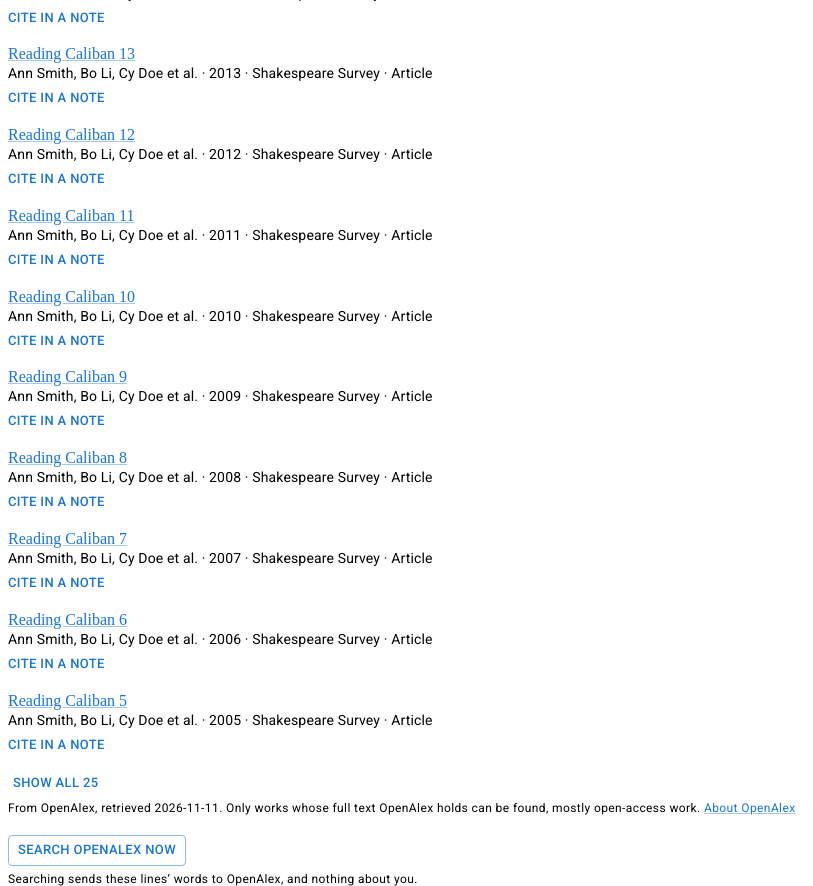
Test case: ScholarshipEntry › SCH-030: searches OpenAlex on request and lists only what is new
(page scrolled)
Click the button "Search OpenAlex now": (97, 850) [8,835,186,866]
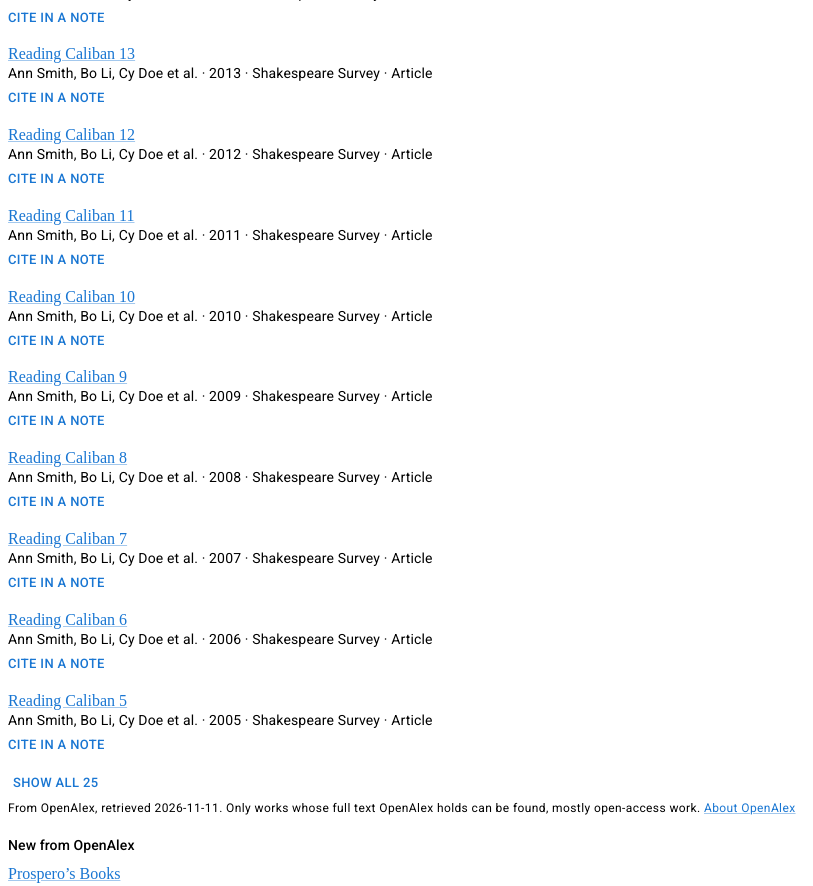
Check: the heading "New from OpenAlex" is shown, box [8,837,134,853]
Check: the link "Prospero’s Books" is shown, box [8,865,120,882]
